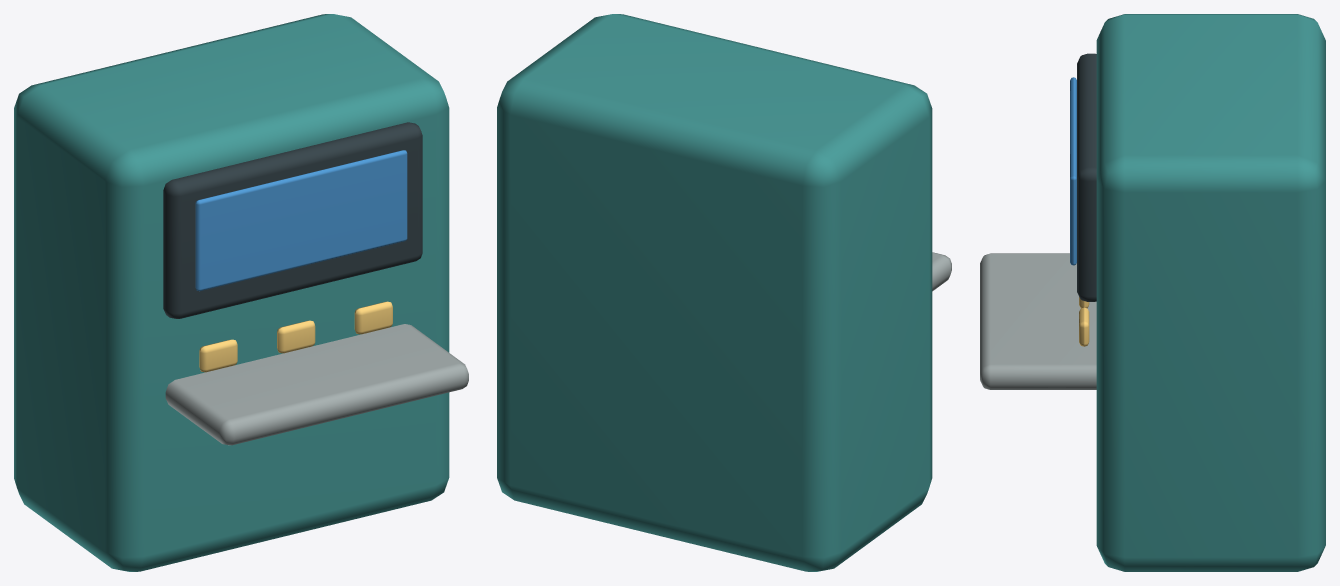
File: terminal.glb
The picture shows the model from 3 angles, left to right: view 1: azimuth 30°, elevation 25°; view 2: azimuth 150°, elevation 25°; view 3: azimuth 270°, elevation 25°; orthographic projection.
Visible parts, largest first — view 1: teal, metal, blue, dark, gold; view 2: teal, metal; view 3: teal, metal, dark, blue, gold.
Boxes of the visible parts, left/top/right/bottom form: teal: left=14, top=14, right=449, bottom=571; metal: left=165, top=324, right=468, bottom=445; blue: left=195, top=150, right=407, bottom=291; dark: left=163, top=122, right=422, bottom=318; gold: left=199, top=301, right=392, bottom=372; teal: left=497, top=14, right=932, bottom=571; metal: left=932, top=252, right=951, bottom=291; teal: left=1096, top=14, right=1325, bottom=571; metal: left=980, top=253, right=1096, bottom=389; dark: left=1077, top=53, right=1096, bottom=301; blue: left=1070, top=77, right=1076, bottom=265; gold: left=1079, top=297, right=1089, bottom=346.
Bounding box in the file's own units: 1.1 × 1.3 × 0.98.
